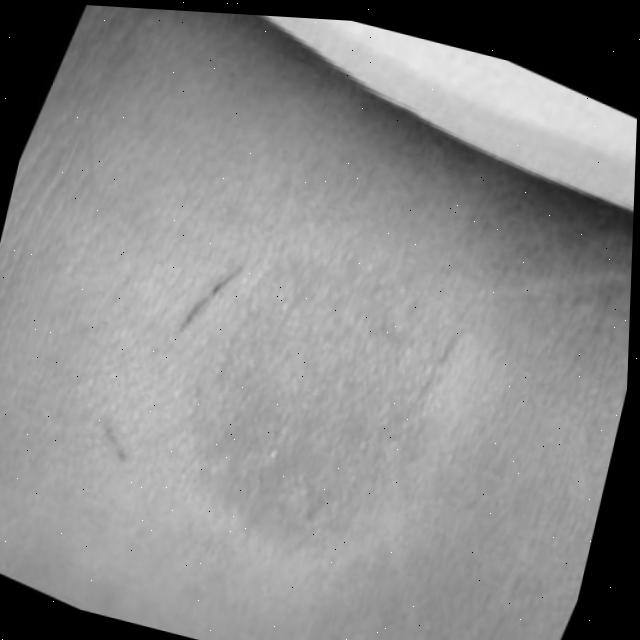Eczema: (176, 233, 462, 557)
